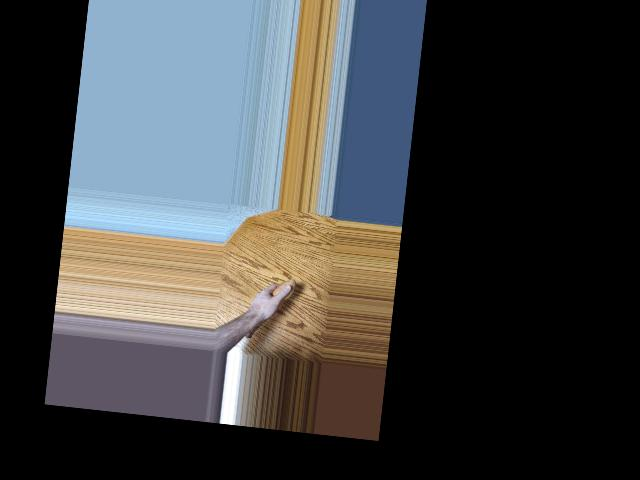sweet_potato: (244, 275, 296, 344)
